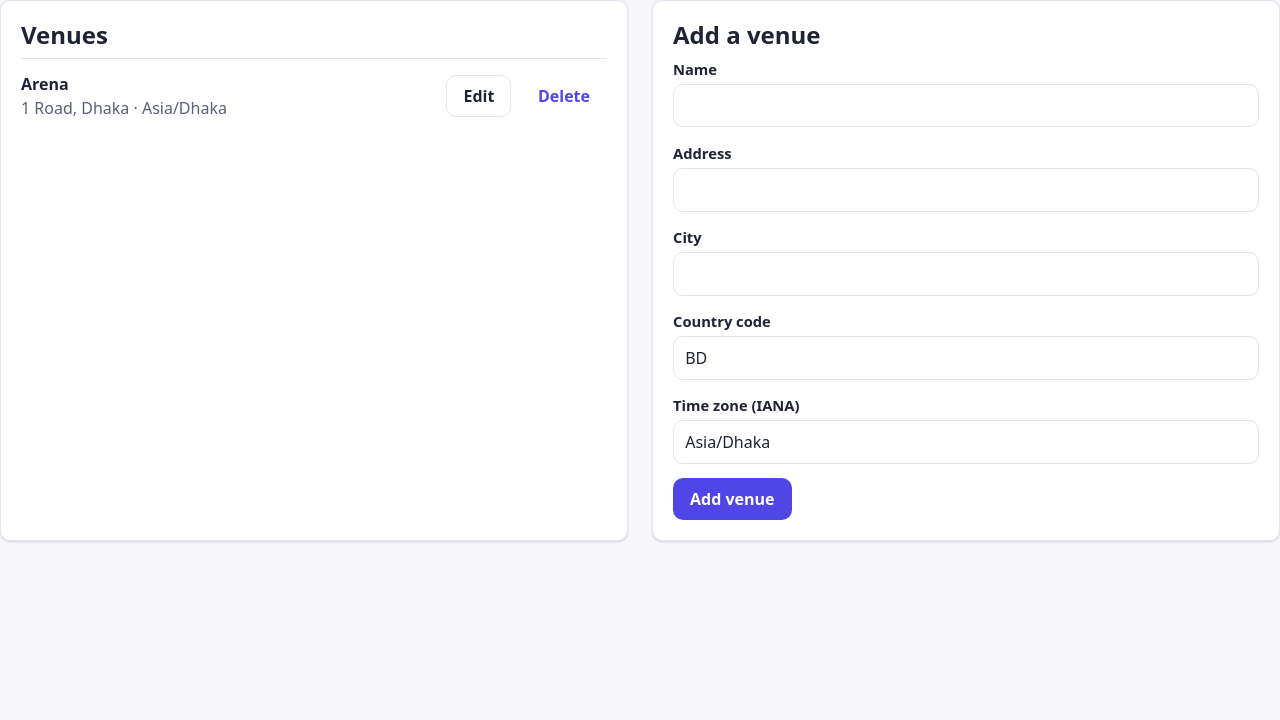
VenuesPage › lists, creates, edits and deletes venues
expect the text "Arena" is shown: met, box [21,73,69,95]
Step 1. Type "New Hall" into the field labelled "Name" → (966, 106), box [673,84,1259,128]
Step 2. Type "2 Road" into the field labelled "Address" → (966, 190), box [673,168,1259,212]
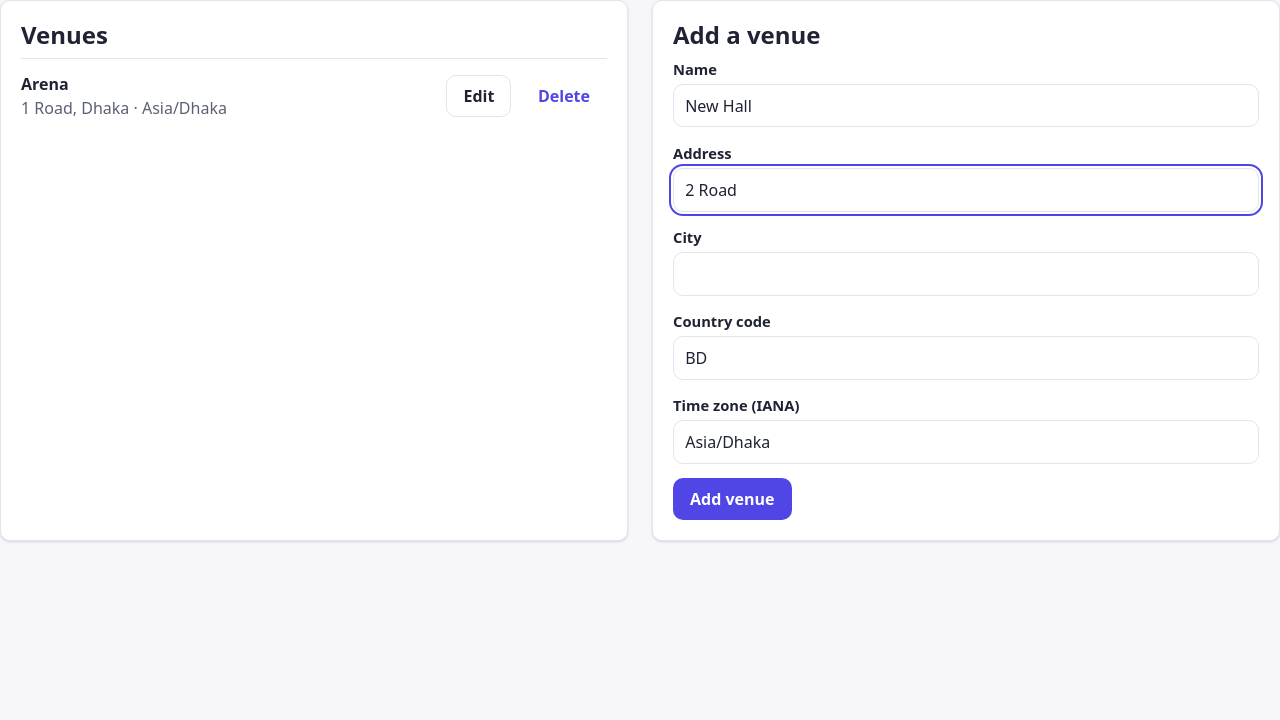
Step 3. Type "Sylhet" into the field labelled "City" → (966, 274), box [673,252,1259,296]
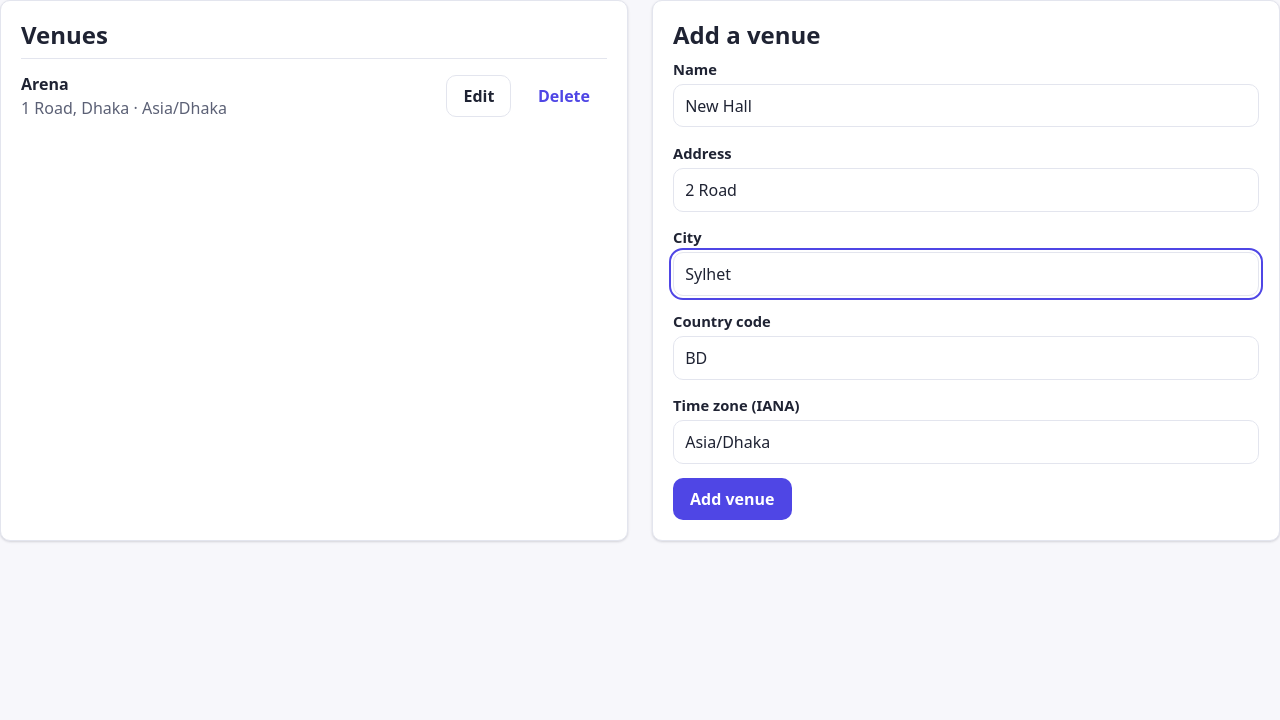
Step 4. Click the button "Add venue" → (732, 499), box [673,478,792,520]
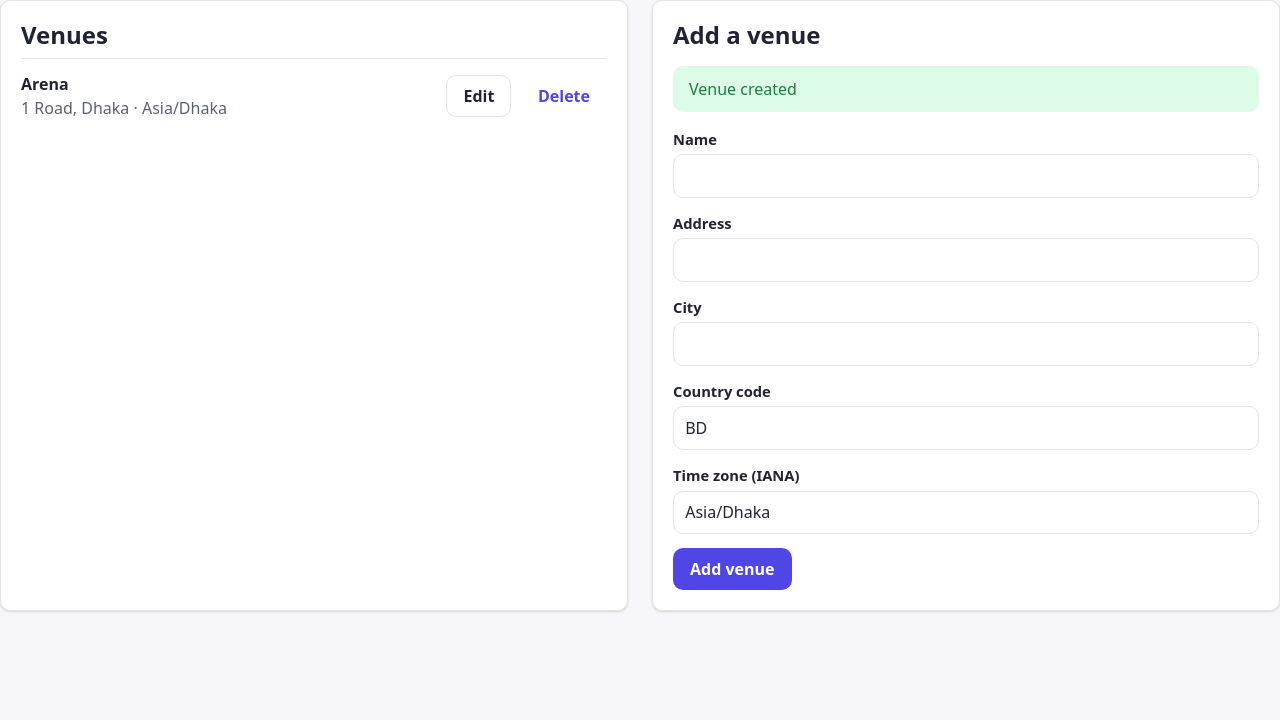
expect the text "Venue created" is shown: met, box [673,66,1259,112]
Step 5. Click the button "Edit" → (479, 96), box [446,75,511,117]
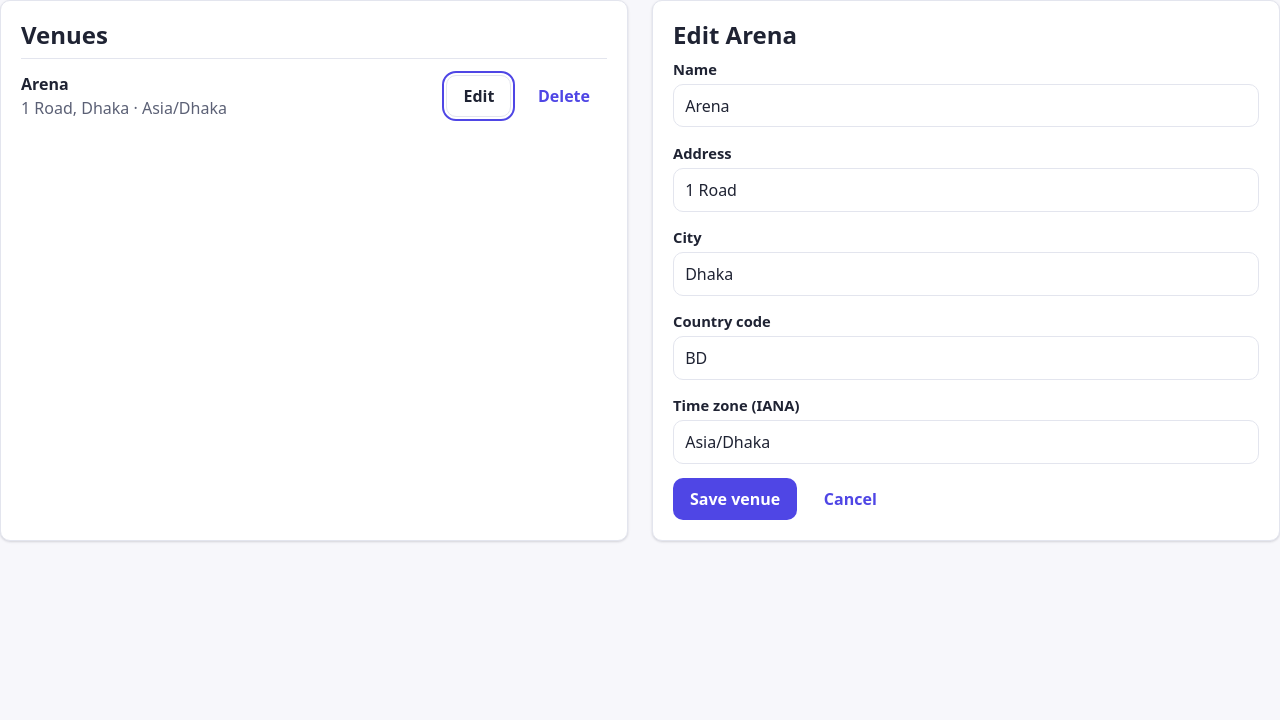
expect the field labelled "Name" holds "Arena": met, box [673,84,1259,128]
Step 6. Replace the text in the field labelled "City" with "Khulna" → (966, 274), box [673,252,1259,296]
Step 7. Click the button "Save venue" → (735, 499), box [673,478,797,520]
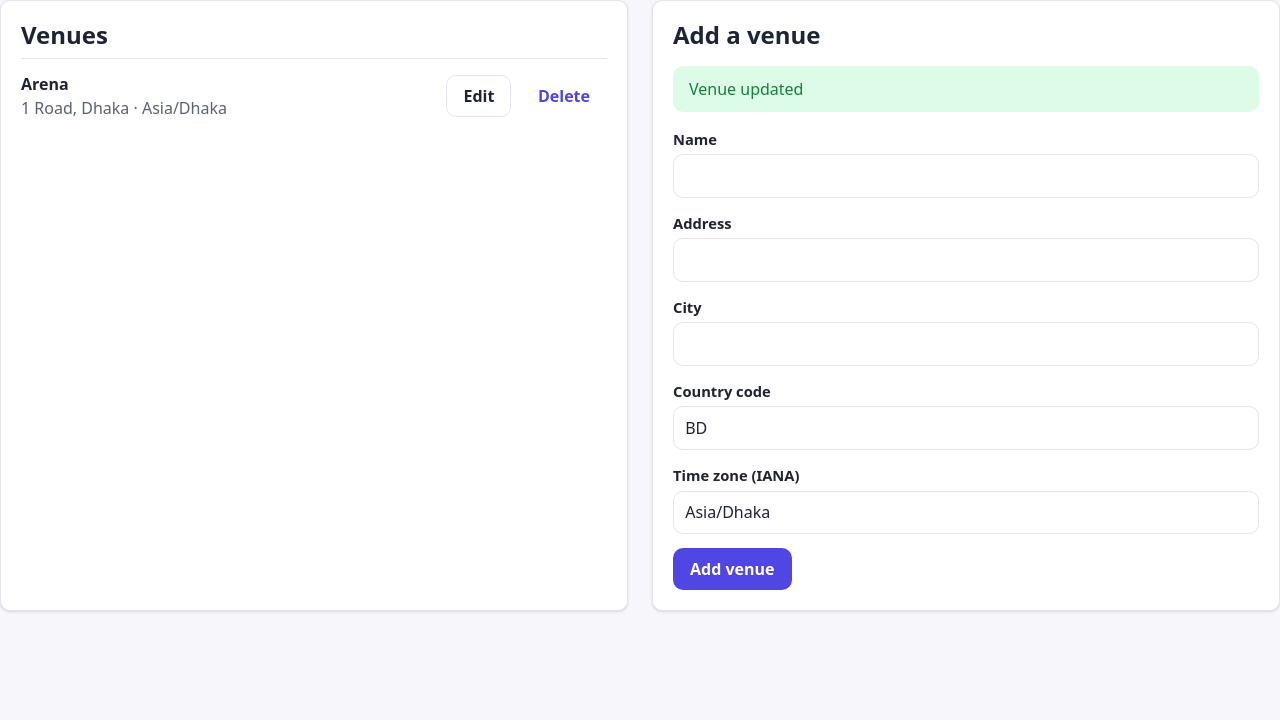
expect the text "Venue updated" is shown: met, box [673,66,1259,112]
Step 8. Click the button "Delete" → (564, 96), box [521,75,607,117]
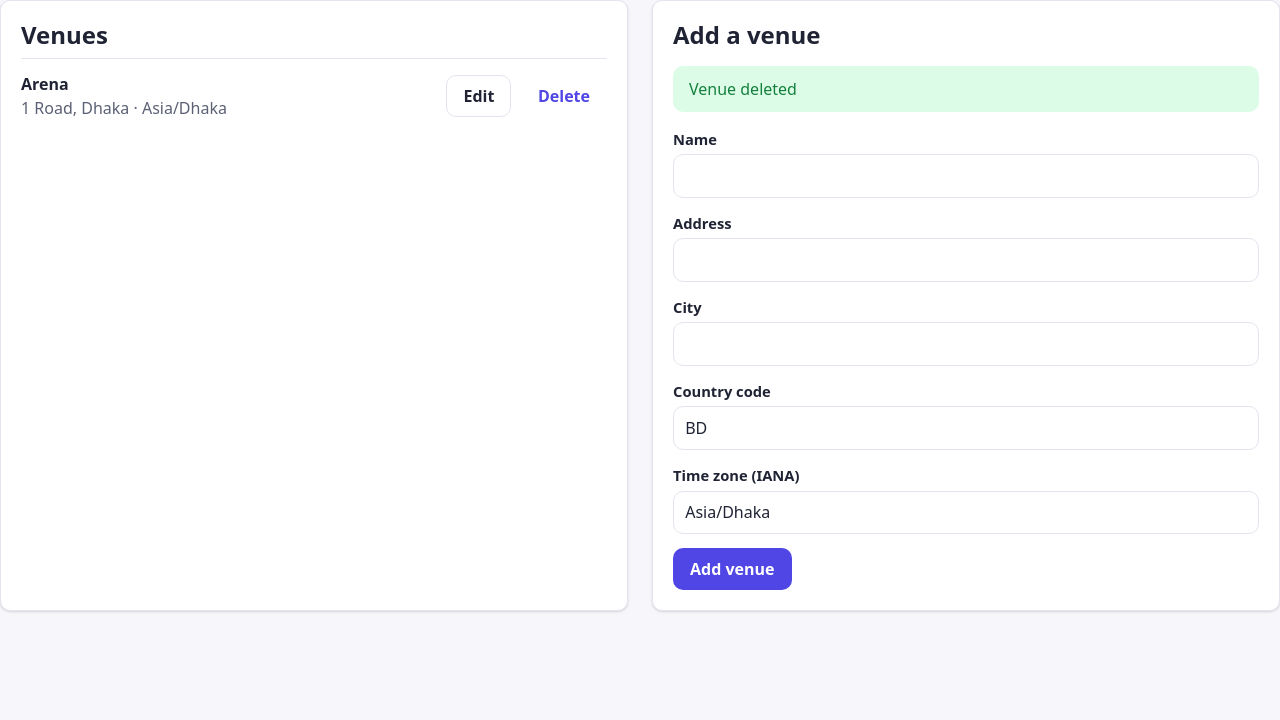
expect the text "Venue deleted" is shown: met, box [673,66,1259,112]
